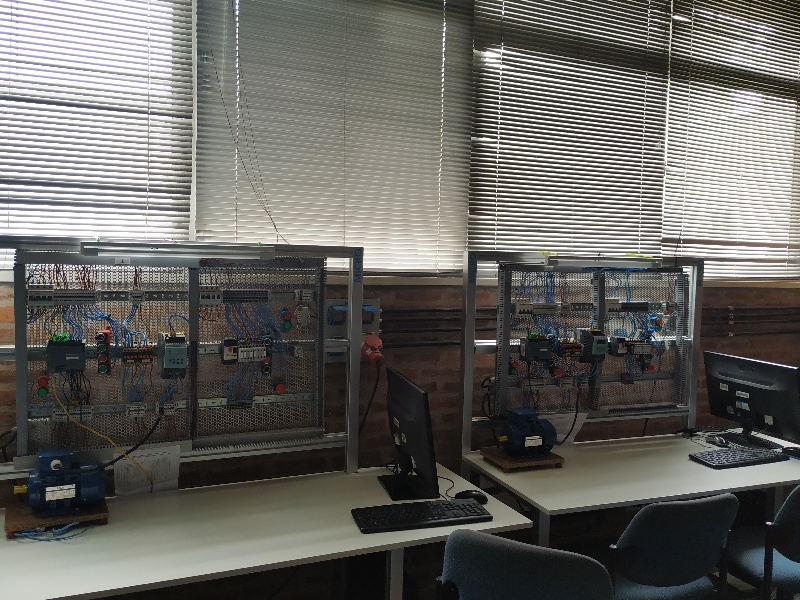Tablero 1: (19, 258, 327, 443)
Tablero 2: (505, 268, 684, 411)
